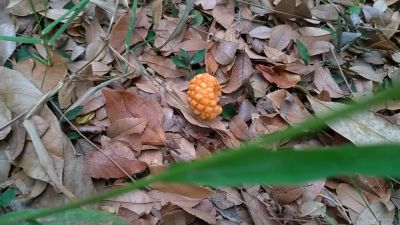eggs: (184, 71, 227, 123)
